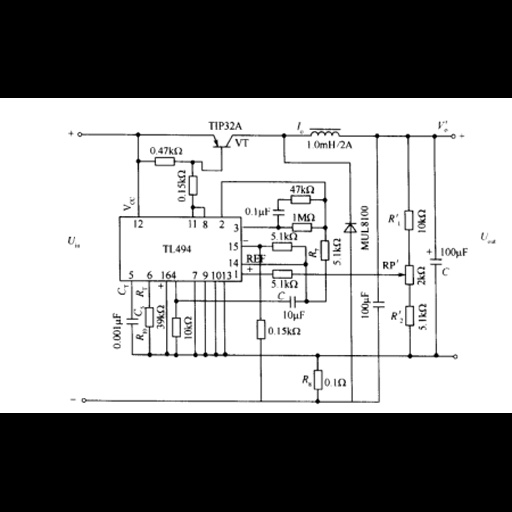capacitor: (371, 297, 387, 312), (271, 204, 286, 219), (288, 294, 299, 310), (125, 316, 139, 327)
firstpolarcapacitor: (425, 247, 441, 266)
firstresistance: (254, 317, 267, 344), (288, 220, 314, 233), (402, 207, 415, 233), (312, 366, 324, 394), (269, 268, 296, 280), (151, 156, 177, 168), (188, 172, 200, 198), (319, 237, 331, 263), (170, 314, 182, 339), (143, 305, 155, 329), (404, 303, 416, 327), (289, 193, 311, 206), (270, 241, 294, 252)
inductor: (307, 130, 342, 138)
pnp: (205, 131, 235, 154)
seconddiode: (340, 220, 359, 236)
